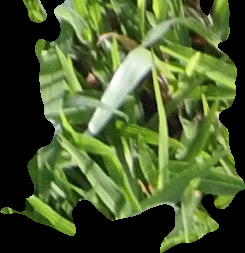grass: (1, 1, 243, 252)
